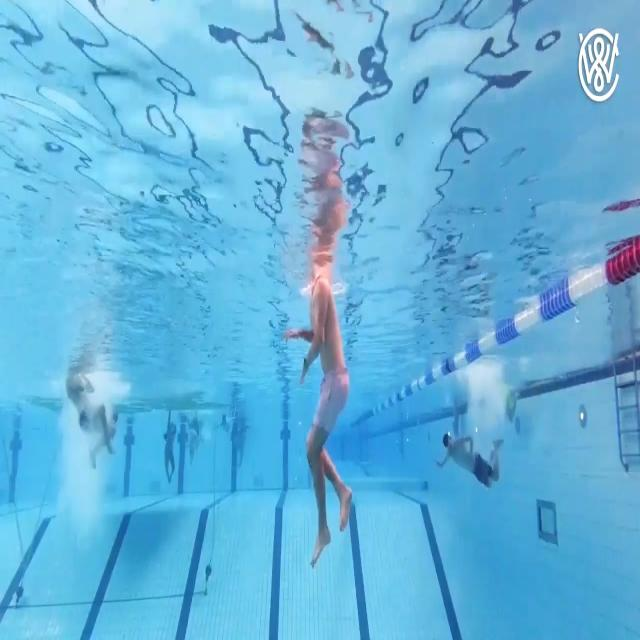Drowning: (66, 369, 118, 470)
Swimming: (284, 278, 352, 568), (434, 434, 506, 491)
